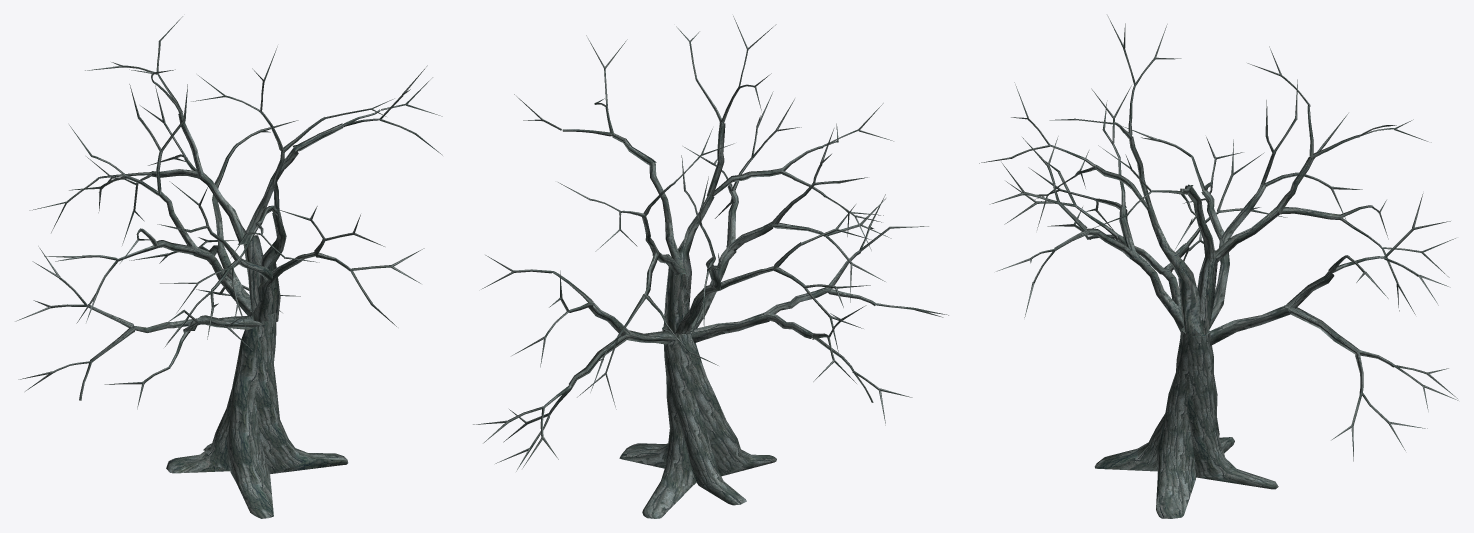
The model's file is Tree.dae.
3 renders of one model, left to right at view 1: azimuth 30°, elevation 25°; view 2: azimuth 150°, elevation 25°; view 3: azimuth 270°, elevation 25°, orthographic. The views are drawn at different scales.
Parts seen in each view (by area): view 1: Tree; view 2: Tree; view 3: Tree.
Boxes of the visible parts, left/top/right/bottom form: Tree: left=15, top=16, right=442, bottom=518; Tree: left=473, top=16, right=948, bottom=518; Tree: left=979, top=15, right=1458, bottom=518.
Bounding box in the file's own units: 441 × 471 × 449.
